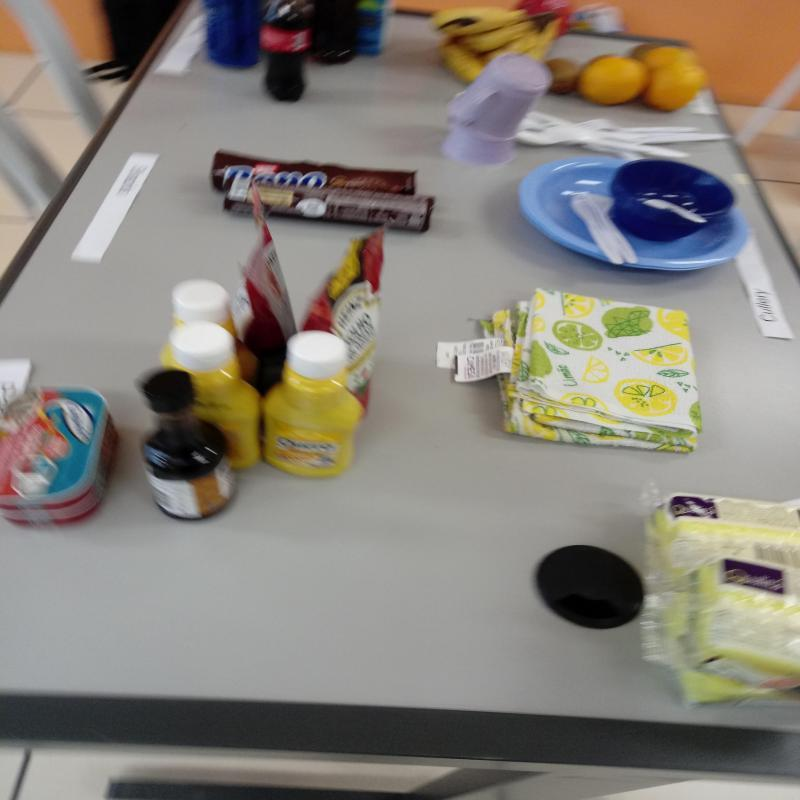Banana: (435, 9, 561, 87)
Cloth: (447, 286, 706, 453)
Coke: (259, 2, 316, 104)
Cookies: (215, 174, 441, 238), (211, 142, 414, 196)
EnglishSauce: (134, 367, 240, 528)
Mustard: (260, 331, 368, 477), (164, 323, 256, 471), (170, 279, 230, 330)
Orange: (579, 56, 650, 107), (648, 64, 710, 118)
Sponge: (640, 486, 800, 717)
TomatoSauce: (297, 222, 394, 407), (229, 182, 296, 368)
Tonic: (207, 0, 269, 71)
TunaCan: (0, 381, 120, 532)
